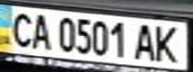0: (54, 14, 75, 53), (90, 18, 109, 56)
1: (109, 18, 130, 58)
5: (72, 16, 93, 55)
A: (130, 20, 160, 62), (27, 10, 54, 51)
C: (3, 8, 39, 48)
K: (151, 21, 184, 64)
